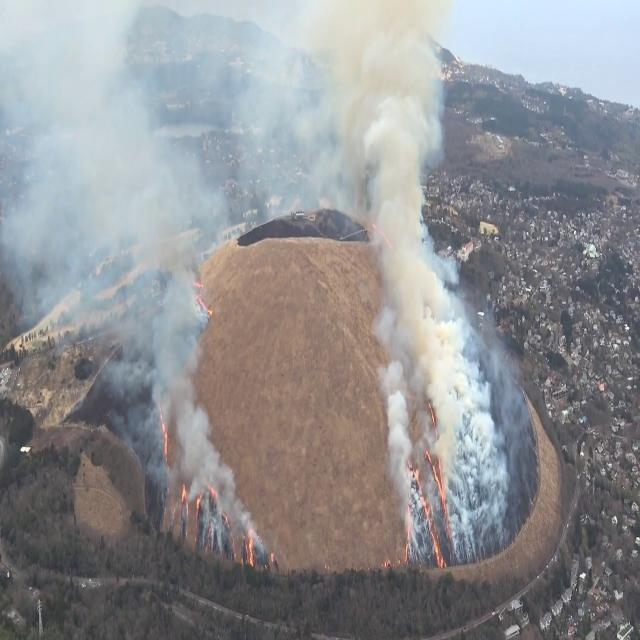Fire: (243, 521, 257, 567)
Smoke: (0, 4, 249, 468), (322, 5, 528, 559)
